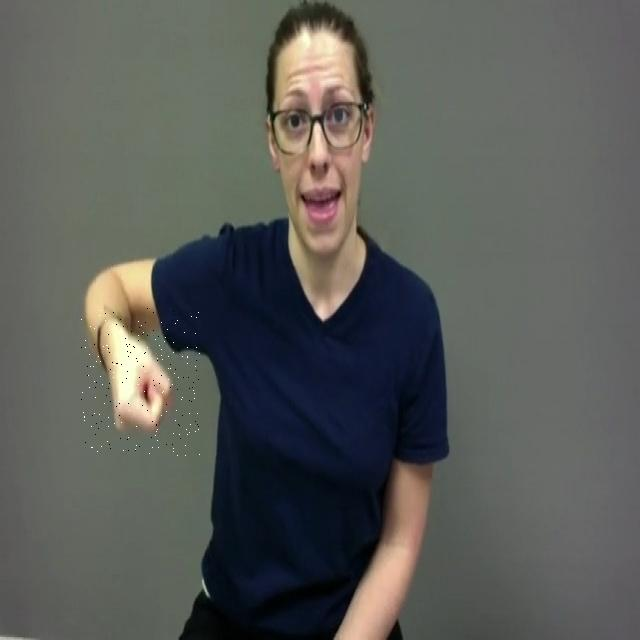bag: (81, 308, 200, 456)
